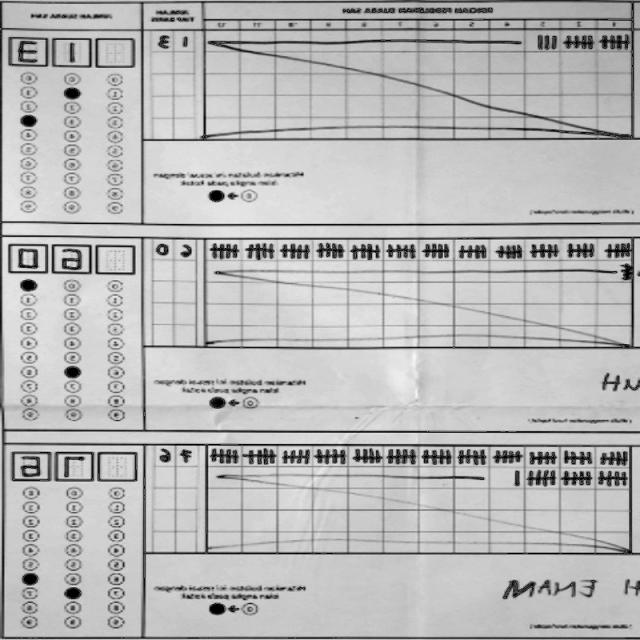Suara: (4, 240, 138, 279), (14, 445, 144, 481), (7, 37, 140, 70)
